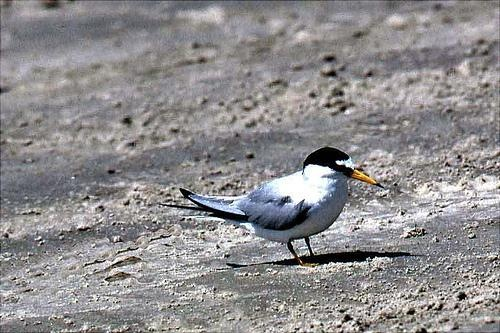bird: (163, 146, 379, 267)
